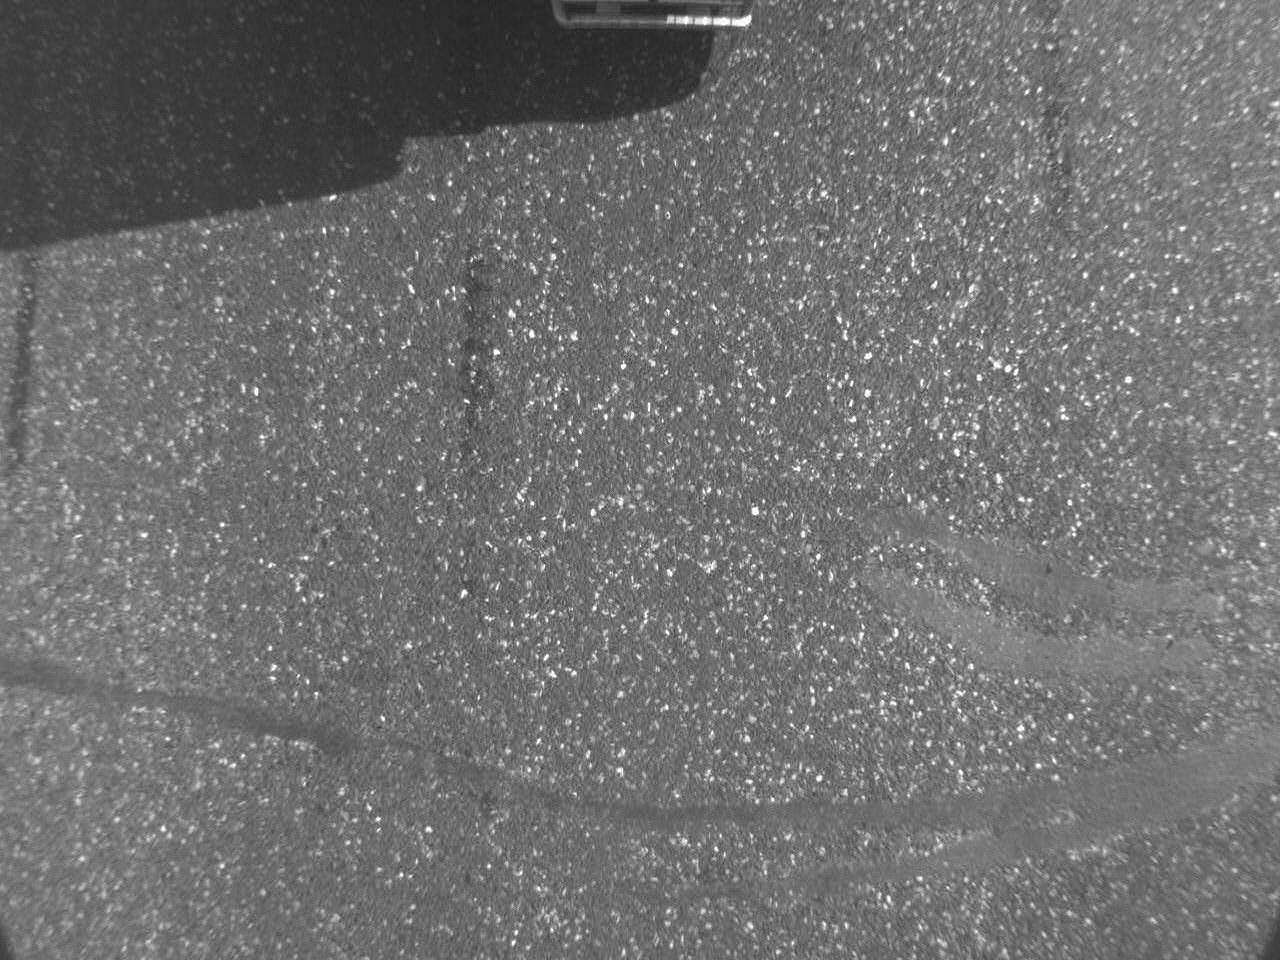sealed: (863, 515, 1248, 689)
